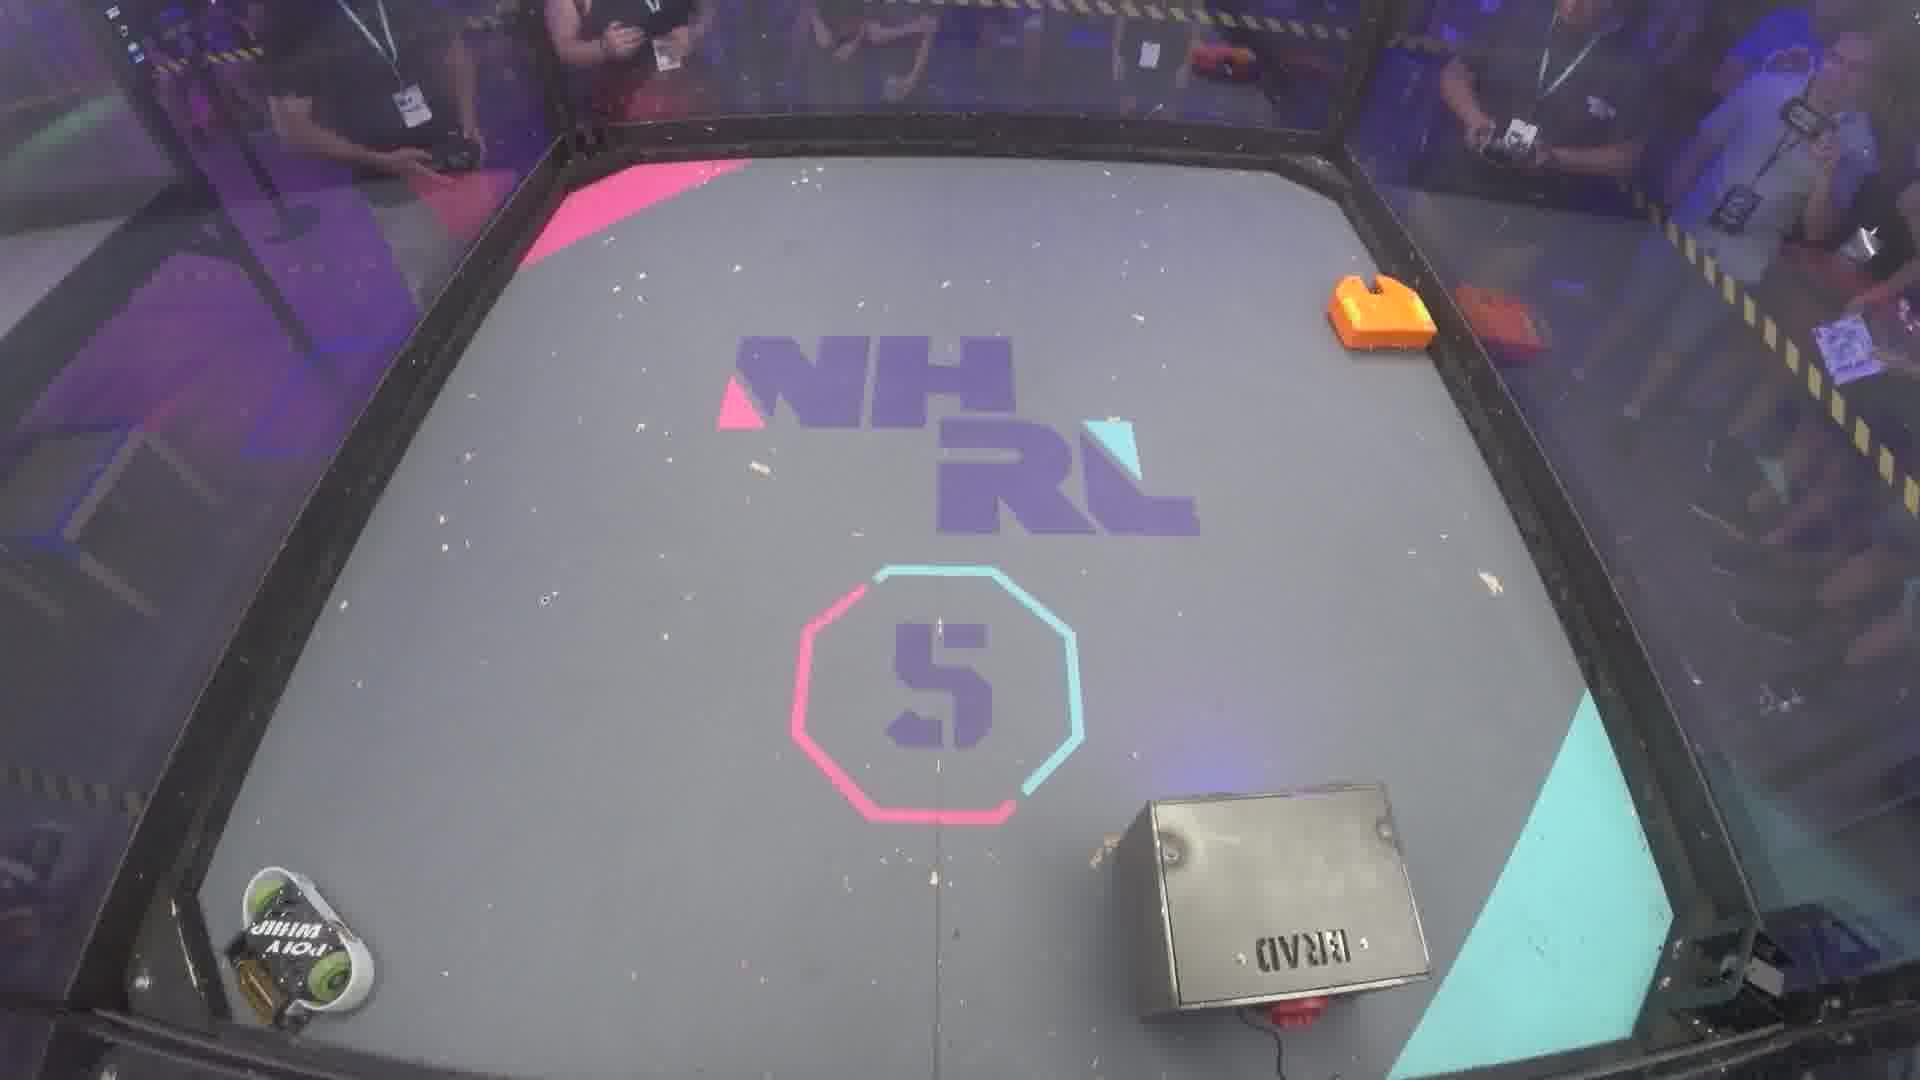combatbot: (229, 865, 381, 1025), (1324, 269, 1440, 363)
housebot: (1110, 783, 1437, 1019)
